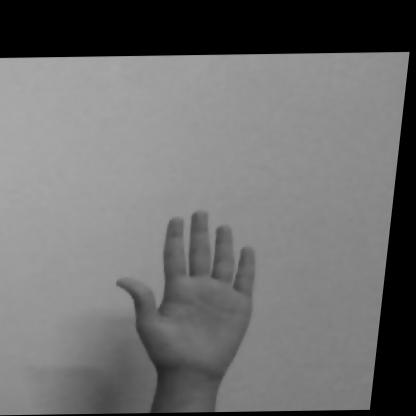palm: (96, 199, 295, 413)
